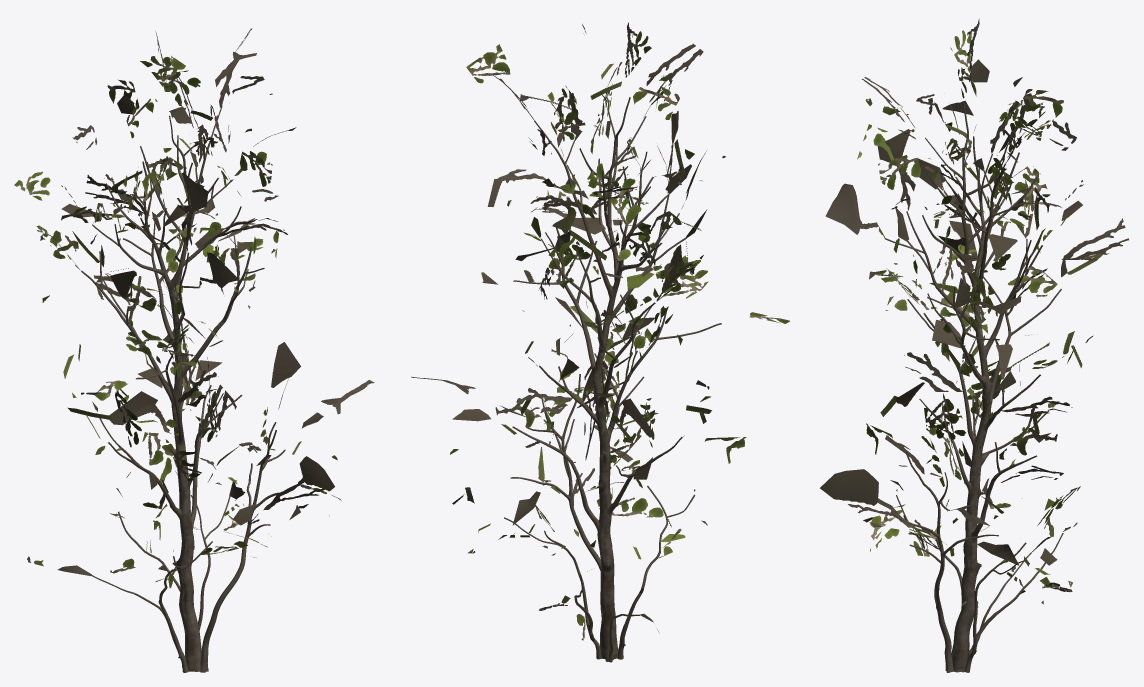
File: SM_BlackAlder_Forest_07_PP_LOD1.gltf
3 renders of one model, left to right at view 1: azimuth 30°, elevation 25°; view 2: azimuth 150°, elevation 25°; view 3: azimuth 270°, elevation 25°, orthographic. The views are drawn at different scales.
Visible parts, largest first — view 1: SM_BlackAlder_Forest_07_PP; view 2: SM_BlackAlder_Forest_07_PP; view 3: SM_BlackAlder_Forest_07_PP.
Boxes of the visible parts, left/top/right/bottom form: SM_BlackAlder_Forest_07_PP: left=14, top=28, right=374, bottom=672; SM_BlackAlder_Forest_07_PP: left=411, top=22, right=789, bottom=662; SM_BlackAlder_Forest_07_PP: left=820, top=19, right=1128, bottom=672.
Size of the model in its own units: 4.41 by 8.26 by 3.63.
Materials: 3 (3 with a texture image).
